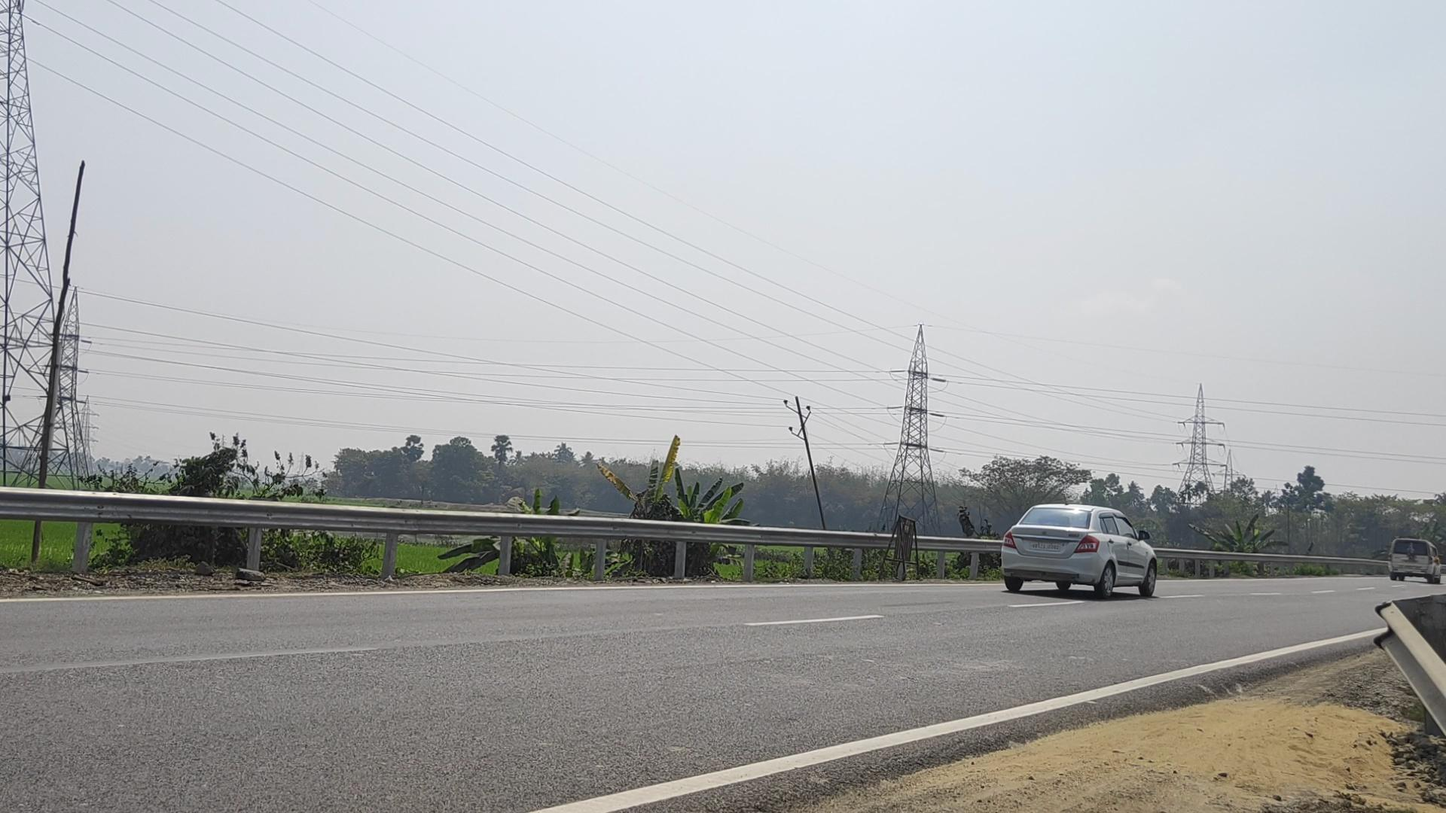car: (1000, 503, 1158, 599), (1388, 537, 1442, 583)
